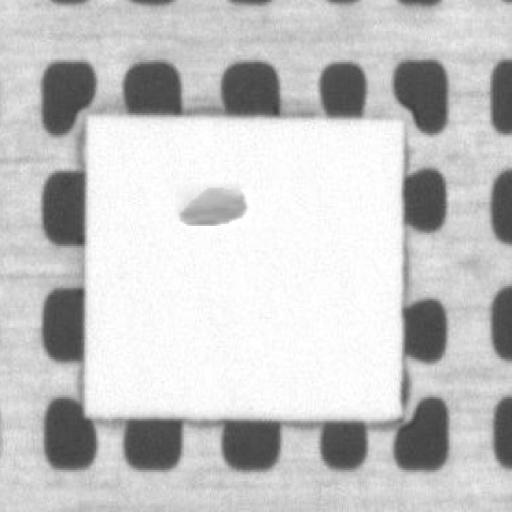DIE_INK: (176, 184, 242, 228)
